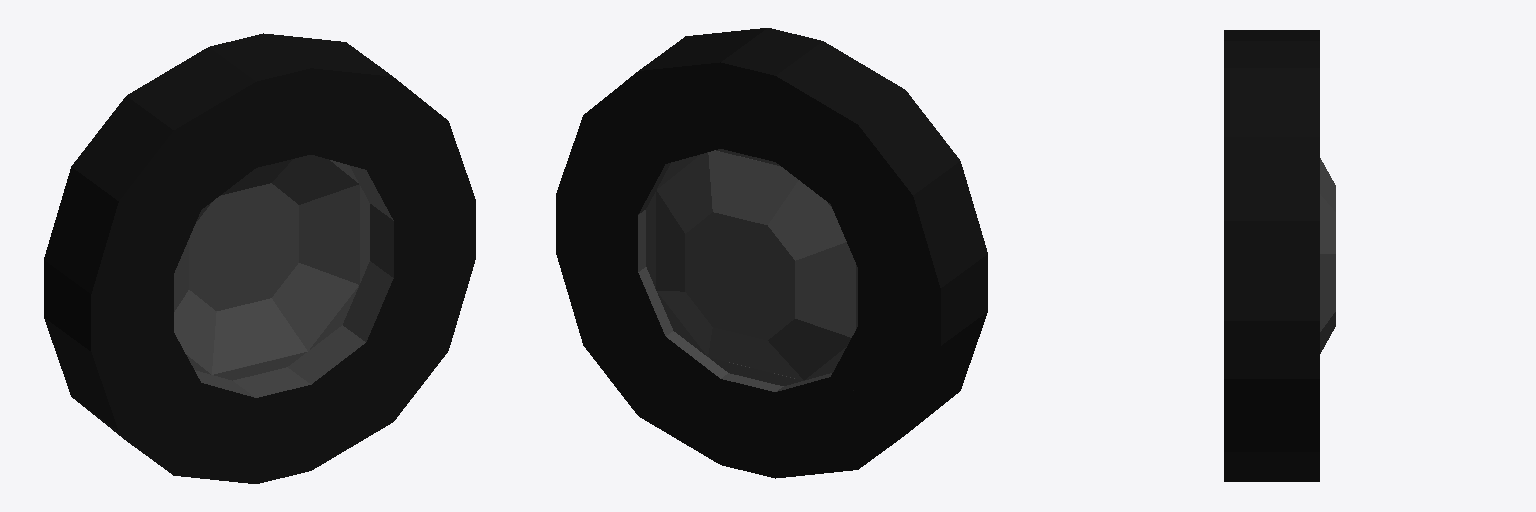
3 renders of one model, left to right at view 1: azimuth 30°, elevation 25°; view 2: azimuth 150°, elevation 25°; view 3: azimuth 270°, elevation 25°, orthographic.
Parts seen in each view (by area): view 1: object 1; view 2: object 1; view 3: object 1.
Part boxes in pixels (x1,y1,x2,y2): object 1: (44,33,475,483); object 1: (556,28,987,478); object 1: (1224,30,1335,481).
Bounding box in the file's own units: 0.875 × 0.875 × 0.2188.
Materials: 1 (1 with a texture image).